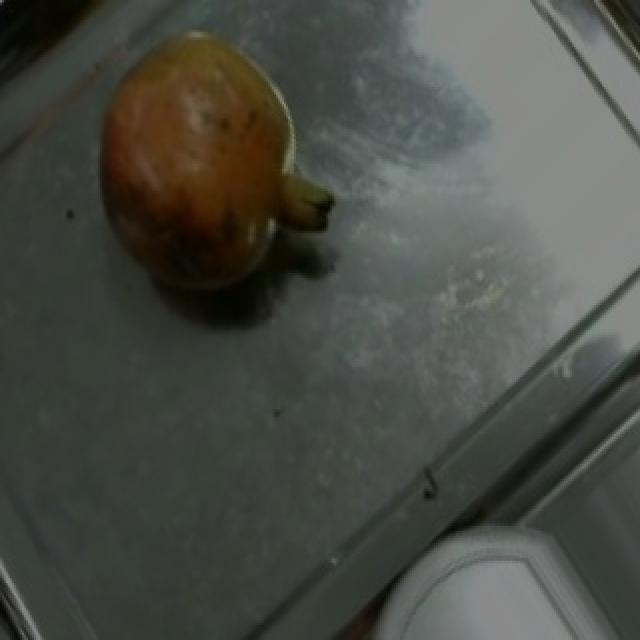fruit: (70, 0, 334, 278)
